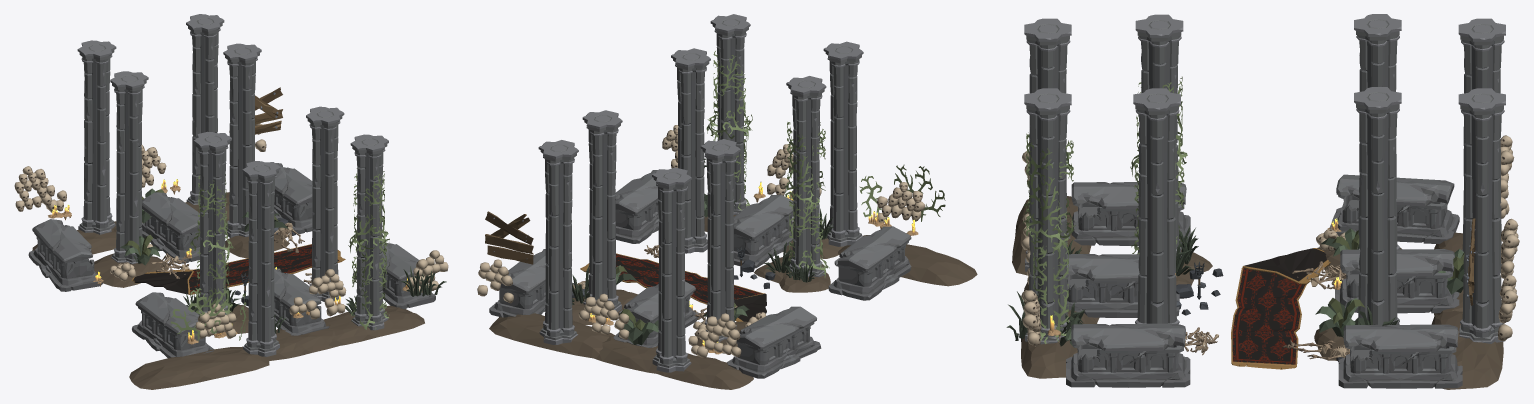
Rendered from crypt_nave_bay.gltf.
3 views of the same model, side by side, from view 1: azimuth 30°, elevation 25°; view 2: azimuth 150°, elevation 25°; view 3: azimuth 270°, elevation 25° (orthographic). The views are drawn at different scales.
Parts seen in each view (by area): view 1: crypt_nave_bay; view 2: crypt_nave_bay; view 3: crypt_nave_bay.
Part boxes in pixels (box(x1,y1,x2,y2)): crypt_nave_bay: box(14, 14, 448, 389); crypt_nave_bay: box(477, 14, 977, 389); crypt_nave_bay: box(1006, 14, 1519, 389).
Size of what is drawn, in the model's own units: 10.75 by 6.22 by 11.68.
Materials: 2 (2 with a texture image).
